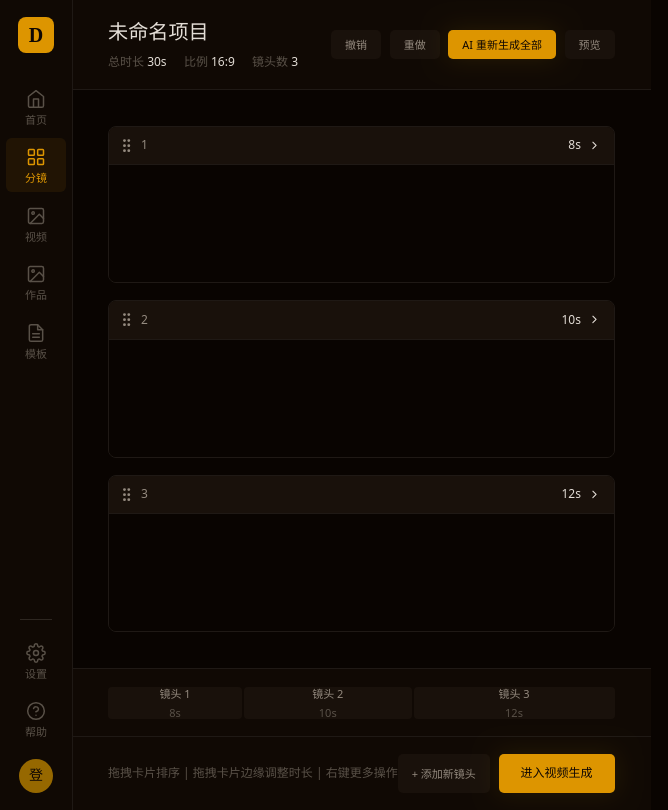
Test: StoryboardPage › 右键菜单 › 右键点击显示菜单
Step 1. Right-click the element with class "shot-card" showing "1 8s 镜头描述 运镜方式 音效风格 备注" → (361, 204), box [108, 126, 614, 283]
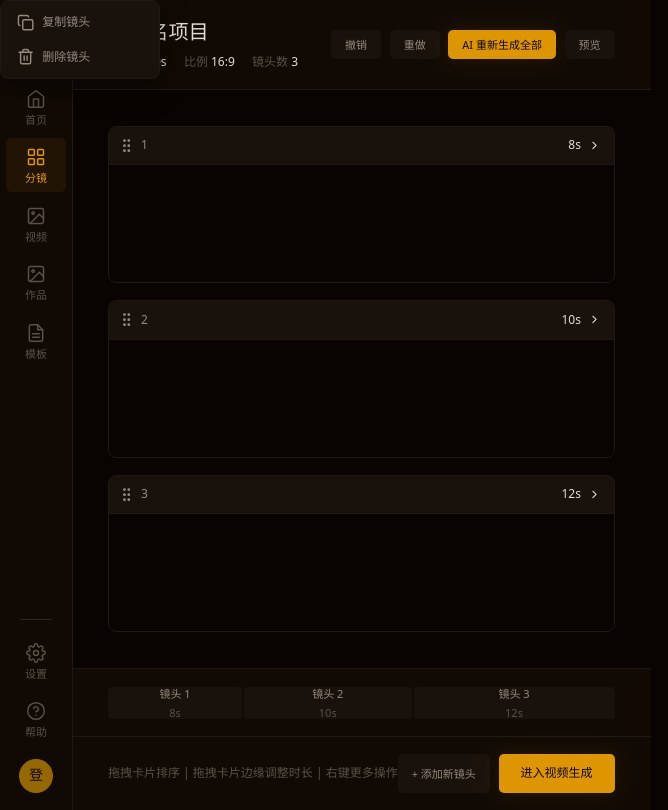
Now the element with class "context-menu" is shown, box [0, 0, 160, 79]
